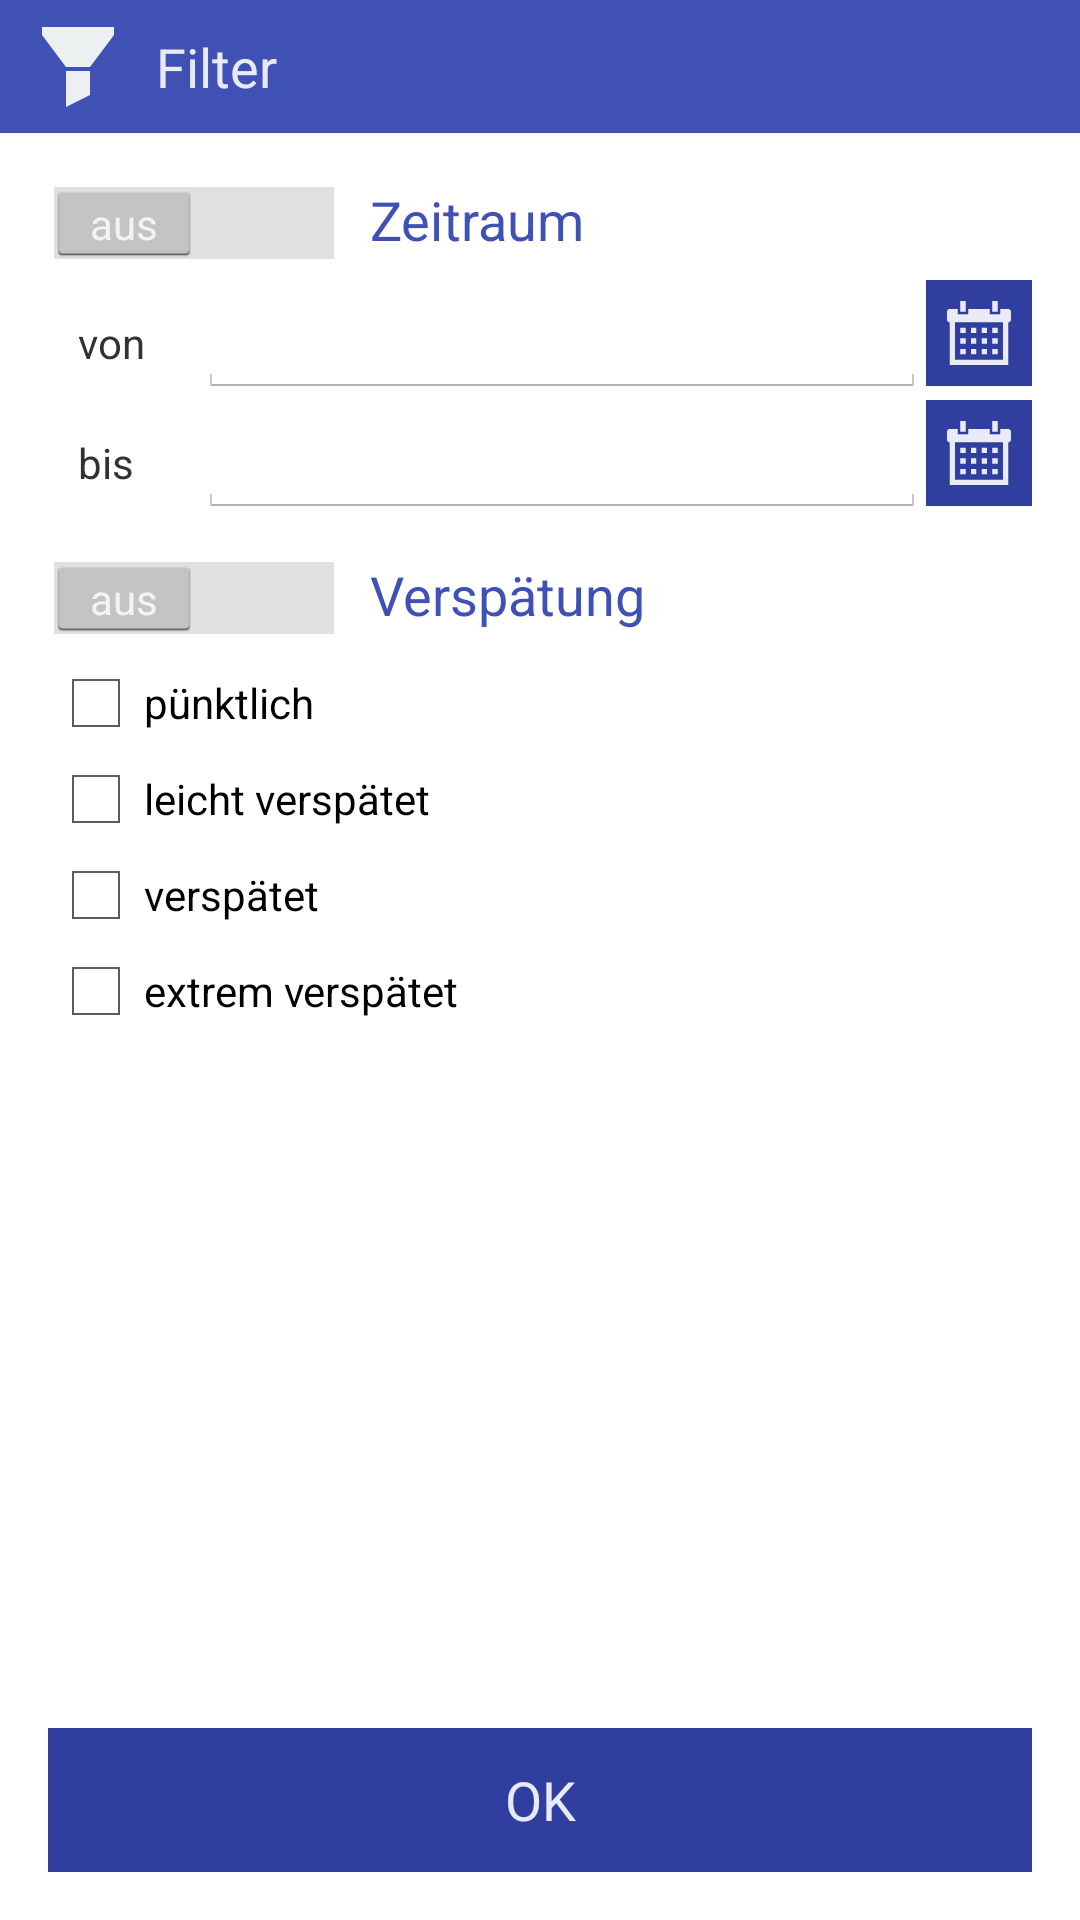

Named icons in this screenshot (1080px x 1920px) and their centers, (x,y):
Datumauswahl: (979,333), (979,453)
